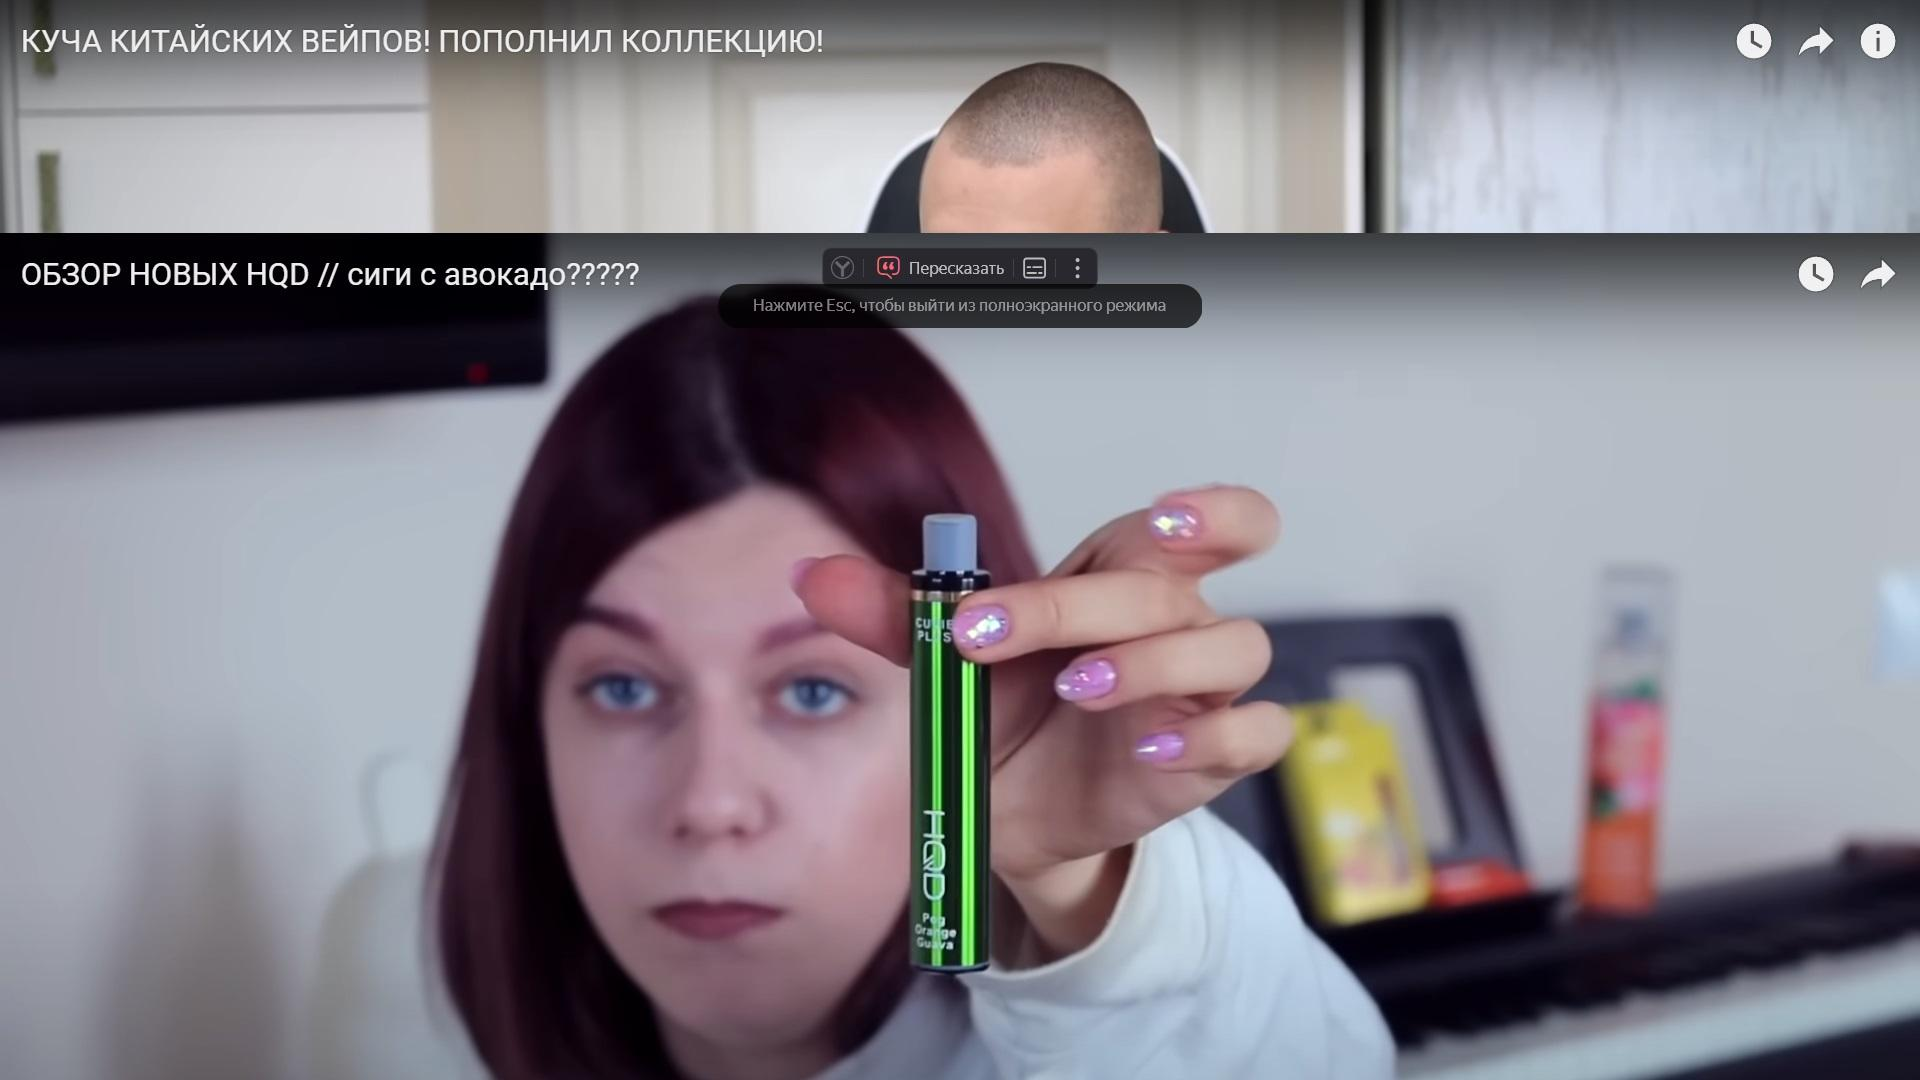Vape: (910, 513, 992, 973)
